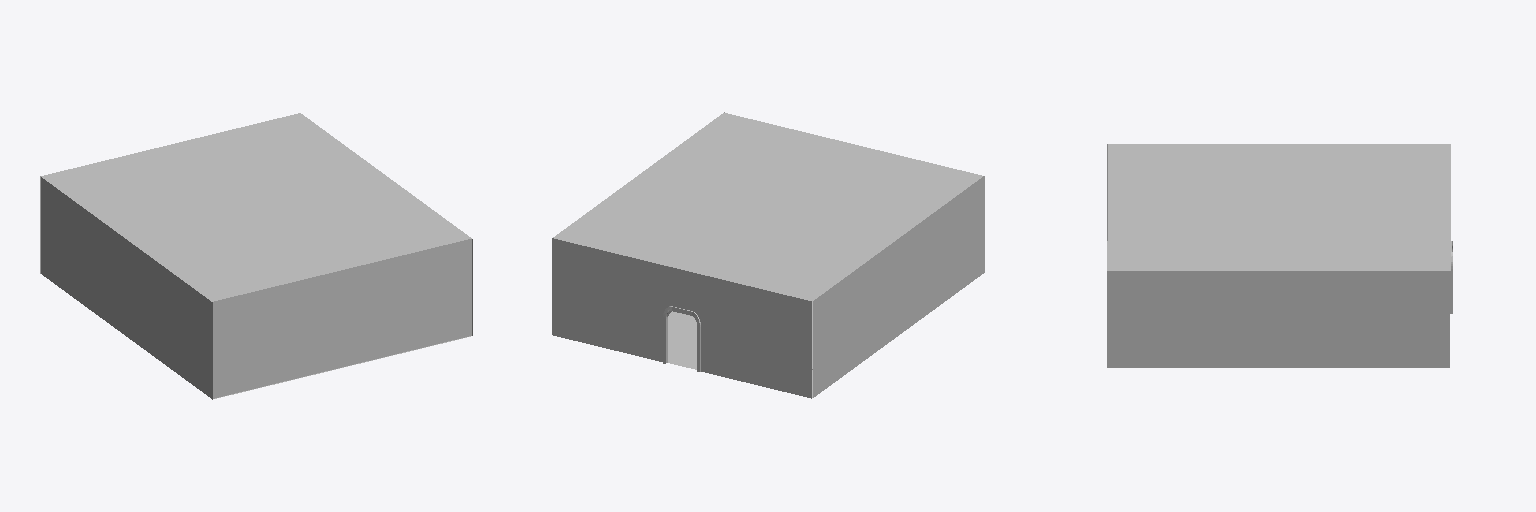
Rendered from location3.obj.
3 renders of one model, left to right at view 1: azimuth 30°, elevation 25°; view 2: azimuth 150°, elevation 25°; view 3: azimuth 270°, elevation 25°, orthographic.
Parts seen in each view (by area): view 1: Plane.001, Plane.004, Plane.003; view 2: Plane.001, Plane.003, Plane.005, Plane.006, Plane, Plane.007, Cube; view 3: Plane.001, Plane.002.
Part boxes in pixels (bbox=[...]): Plane.001: bbox=[41, 113, 471, 301]; Plane.004: bbox=[213, 239, 471, 398]; Plane.003: bbox=[41, 177, 212, 399]; Plane.001: bbox=[553, 113, 982, 301]; Plane.003: bbox=[813, 176, 984, 397]; Plane.005: bbox=[552, 238, 663, 361]; Plane.006: bbox=[701, 275, 811, 398]; Plane: bbox=[668, 302, 812, 397]; Plane.007: bbox=[664, 266, 700, 321]; Cube: bbox=[663, 306, 700, 371]; Plane.001: bbox=[1108, 144, 1450, 270]; Plane.002: bbox=[1107, 271, 1449, 367].
Bounding box in the file's own units: 14 × 5.01 × 16.16.